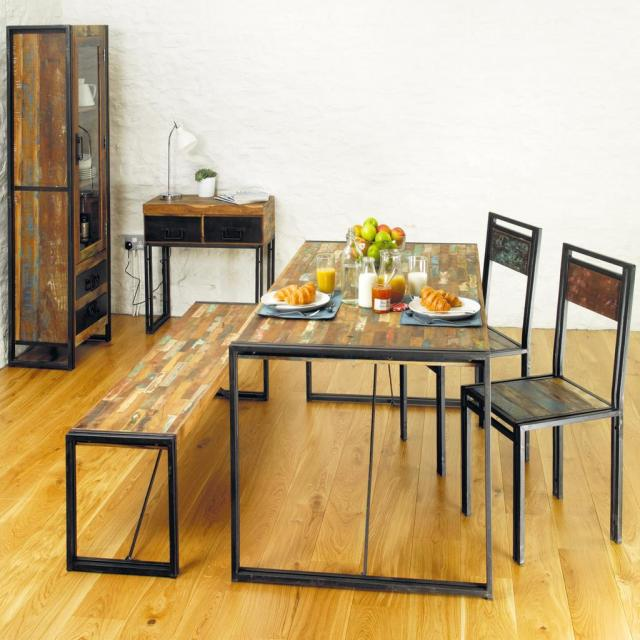Table: (206, 209, 520, 609)
